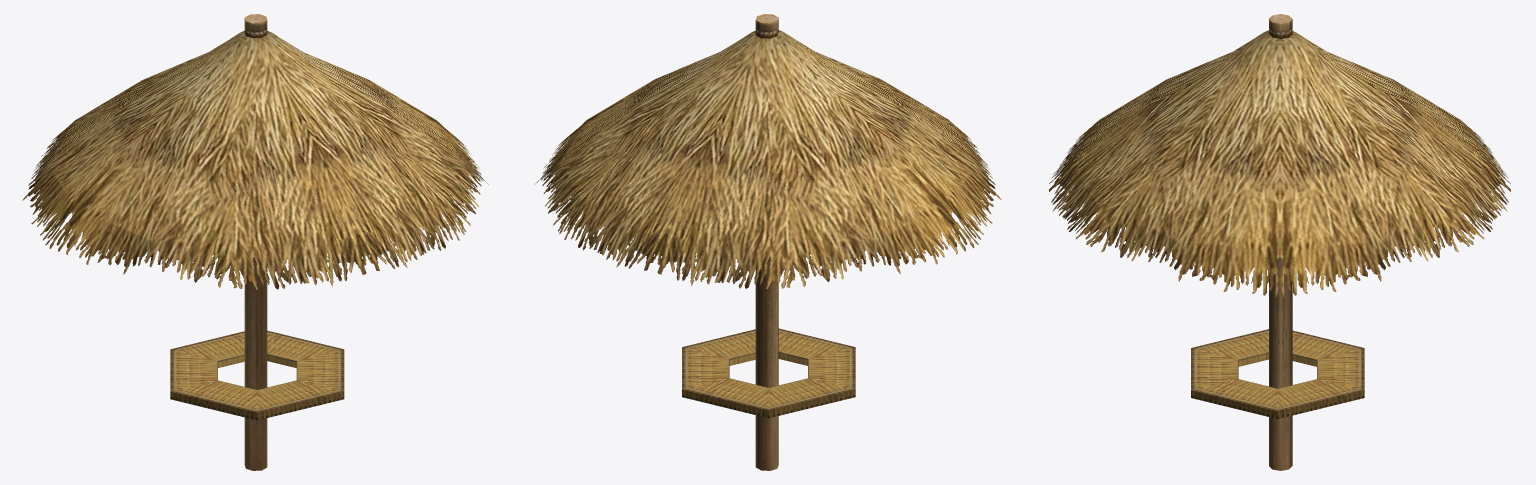
File: furni_0201021.FBX
3 renders of one model, left to right at view 1: azimuth 30°, elevation 25°; view 2: azimuth 150°, elevation 25°; view 3: azimuth 270°, elevation 25°, orthographic.
Parts seen in each view (by area): view 1: furni_0201021; view 2: furni_0201021; view 3: furni_0201021.
Part boxes in pixels (x1,y1,x2,y2): furni_0201021: (22, 14, 488, 470); furni_0201021: (534, 14, 1001, 470); furni_0201021: (1049, 14, 1510, 470).
Bounding box in the file's own units: 393 × 401 × 393.
Materials: 1 (1 with a texture image).
